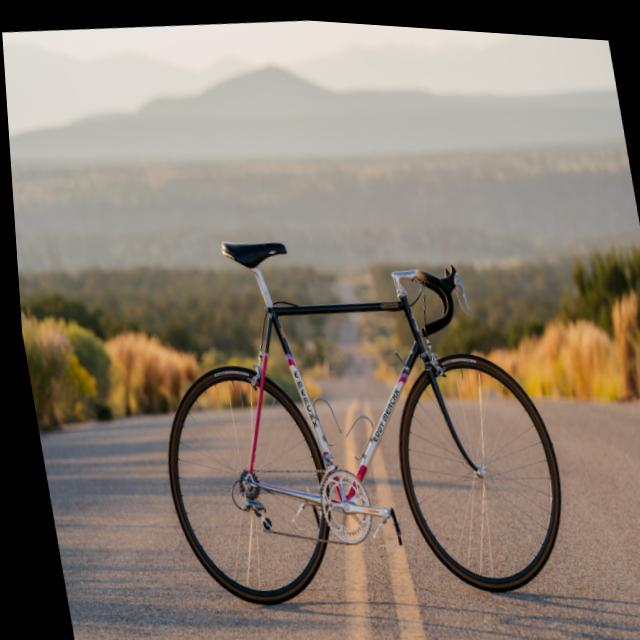road-bike: (123, 203, 577, 626)
